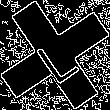L_NW: (28, 26, 82, 84)
